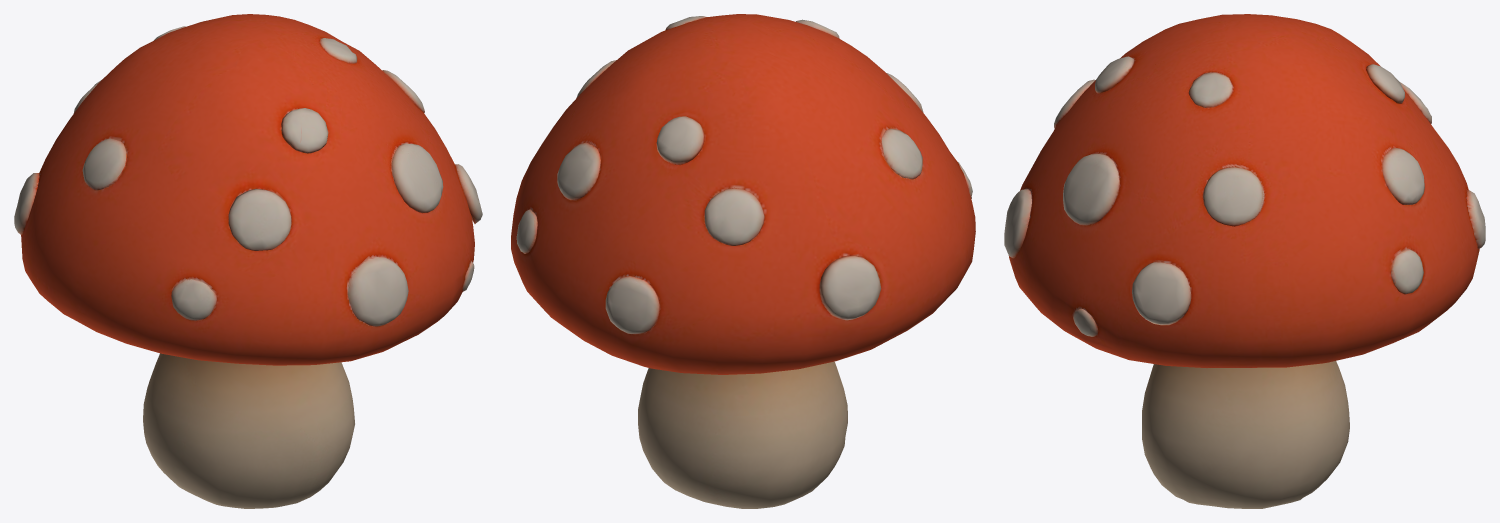
Rendered from red+mushroom+3d+model.glb.
3 views of the same model, side by side, from view 1: azimuth 30°, elevation 25°; view 2: azimuth 150°, elevation 25°; view 3: azimuth 270°, elevation 25° (orthographic).
Parts seen in each view (by area): view 1: tripo_node_070fa178-5469-45e3-ae64-848ee09bf97d; view 2: tripo_node_070fa178-5469-45e3-ae64-848ee09bf97d; view 3: tripo_node_070fa178-5469-45e3-ae64-848ee09bf97d.
Part boxes in pixels (box(x1,y1,x2,y2)): tripo_node_070fa178-5469-45e3-ae64-848ee09bf97d: box(14, 14, 482, 508); tripo_node_070fa178-5469-45e3-ae64-848ee09bf97d: box(511, 14, 975, 508); tripo_node_070fa178-5469-45e3-ae64-848ee09bf97d: box(1004, 14, 1485, 508).
Size of the model in its own units: 0.9082 by 0.998 by 0.9434.
1 material, 1 textured.
